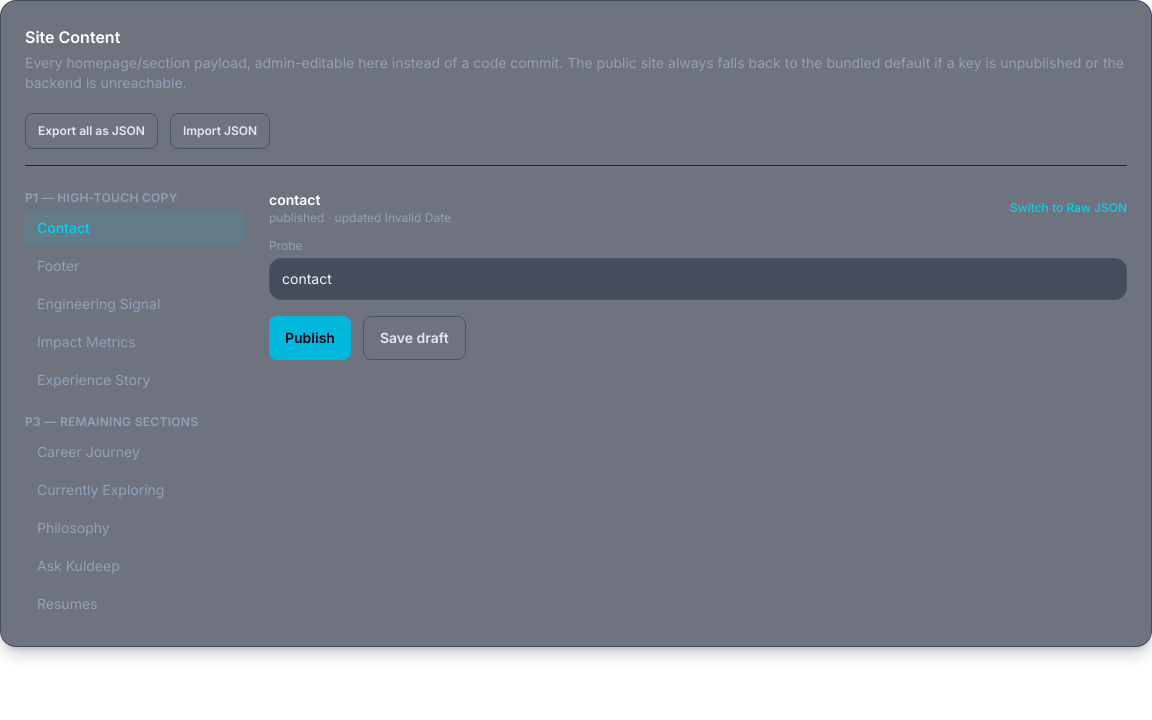
Test: SiteContentAdminPanel › bulk export/import (against the DB, not localStorage) › reports partial export when some keys 404 (not yet published)
Click the button "Export all as JSON".
click(91, 131)  # box [25,113,158,149]
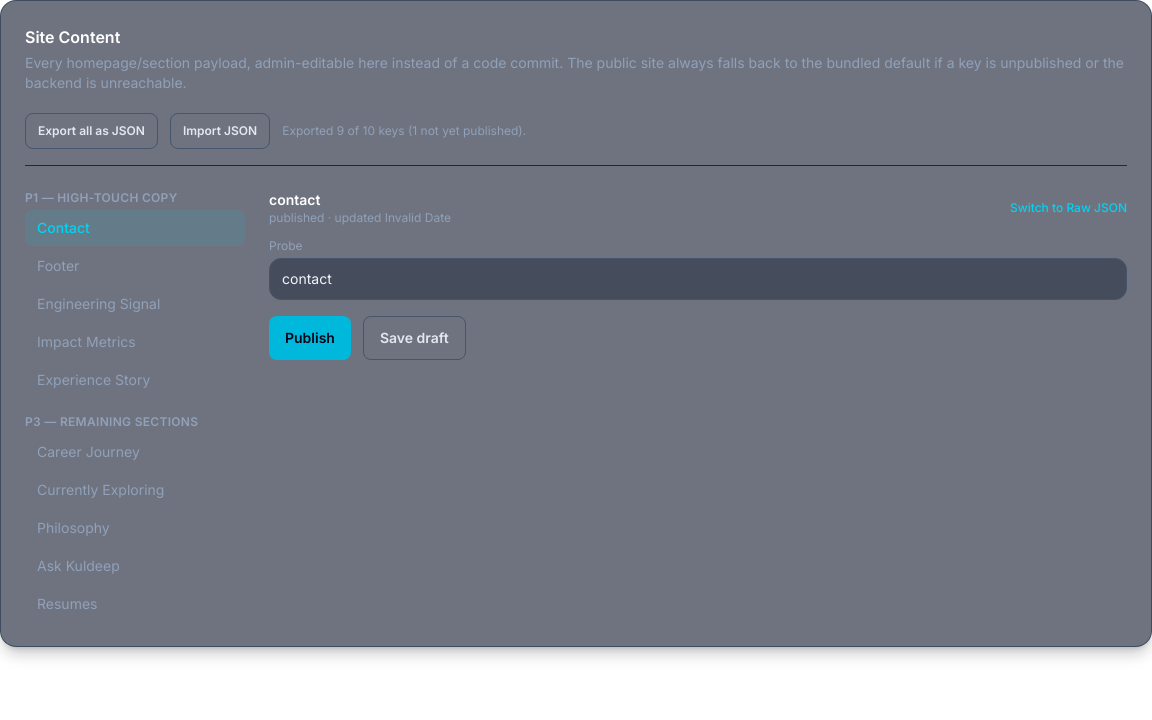
Check: the text "Exported 9 of 10 keys (1 not yet published)." is shown, box [282,123,526,139]
